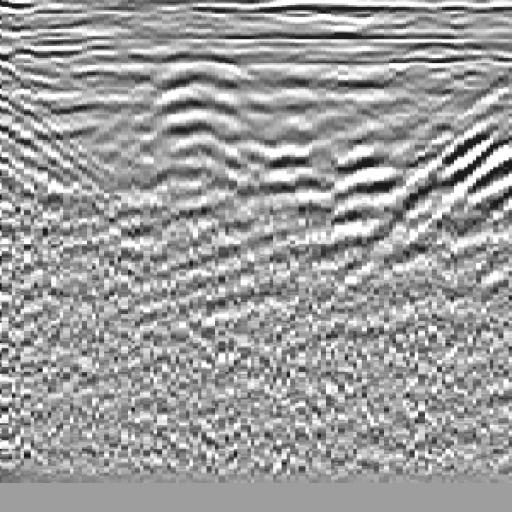metalic: (121, 38, 283, 232)
nonmetalic: (391, 92, 512, 248)
